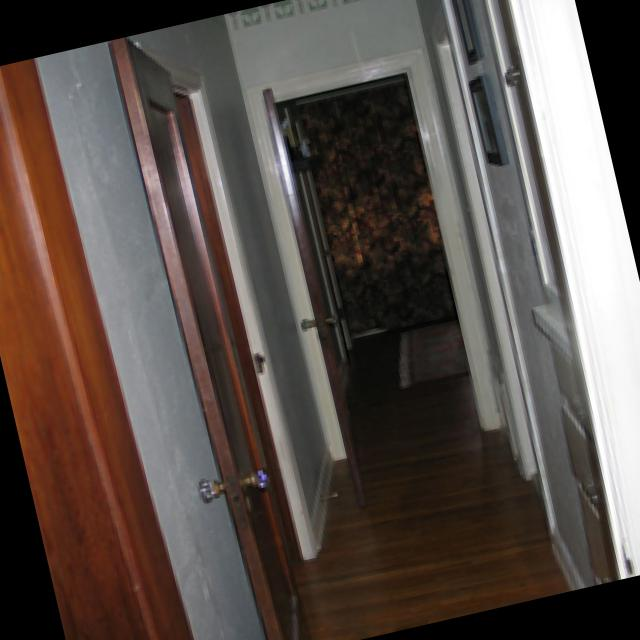curtain crop: (283, 77, 440, 326)
door bars: (107, 37, 295, 640)
door mat: (189, 466, 265, 502)
floor -X: (296, 316, 569, 640)
painting crop: (463, 75, 499, 161), (447, 0, 478, 61)
rug -partially obscured-: (397, 317, 465, 384)
